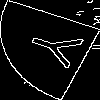Y: (24, 25, 95, 73)
